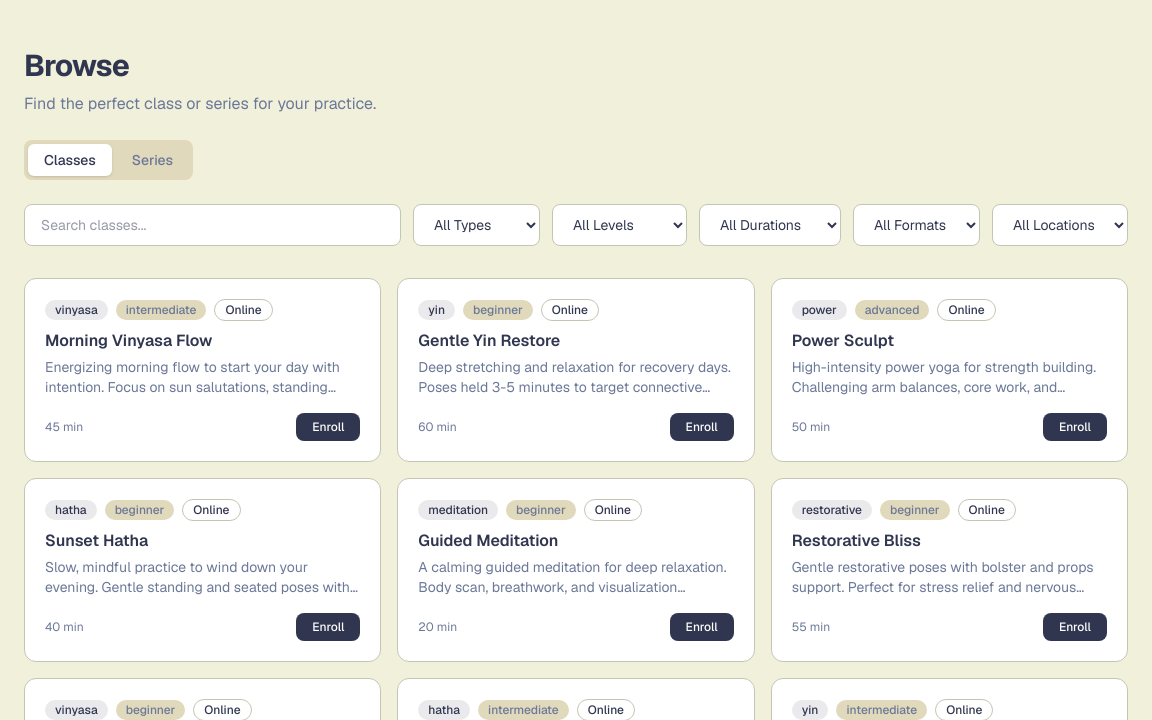
Test: Browse classes page › filters classes by type
The width and height of the screenshot is (1152, 720).
Expected: the heading "Morning Vinyasa Flow" is shown, [45,330,212,351]
Select "Meditation" in the dropdown named "Filter by type": coordinates (476, 225) [413,204,540,246]
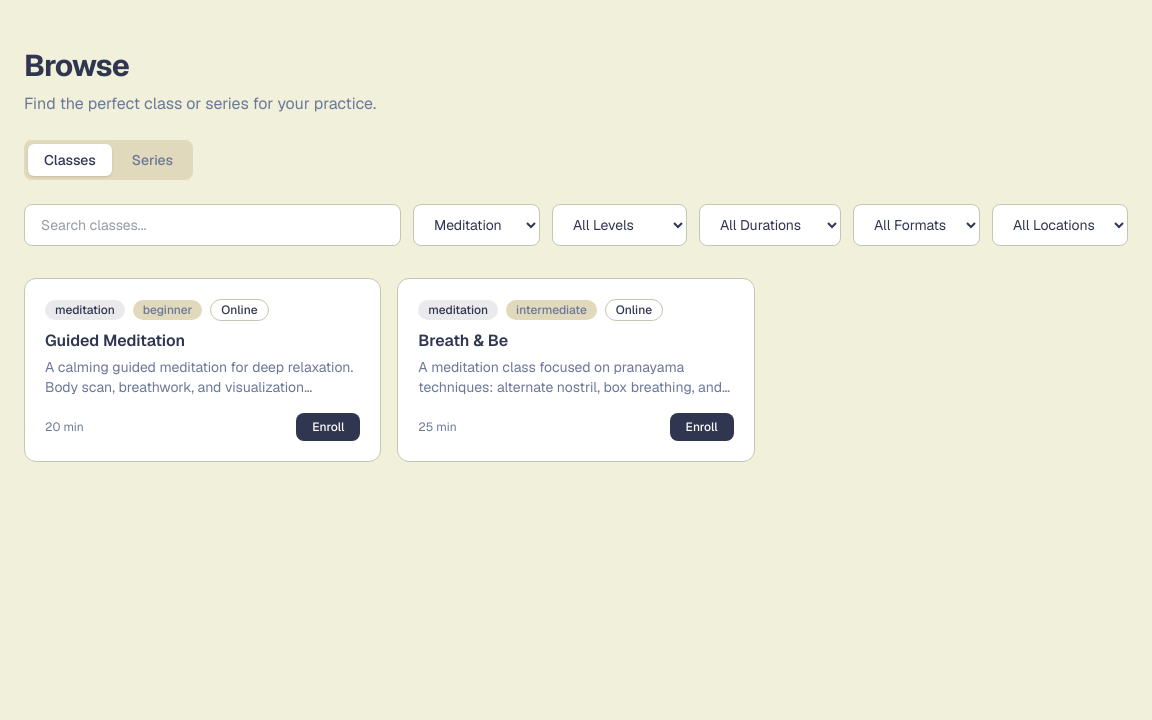
Expected: the heading "Guided Meditation" is shown, [45,330,185,351]
Expected: the link "Morning Vinyasa Flow" is gone
